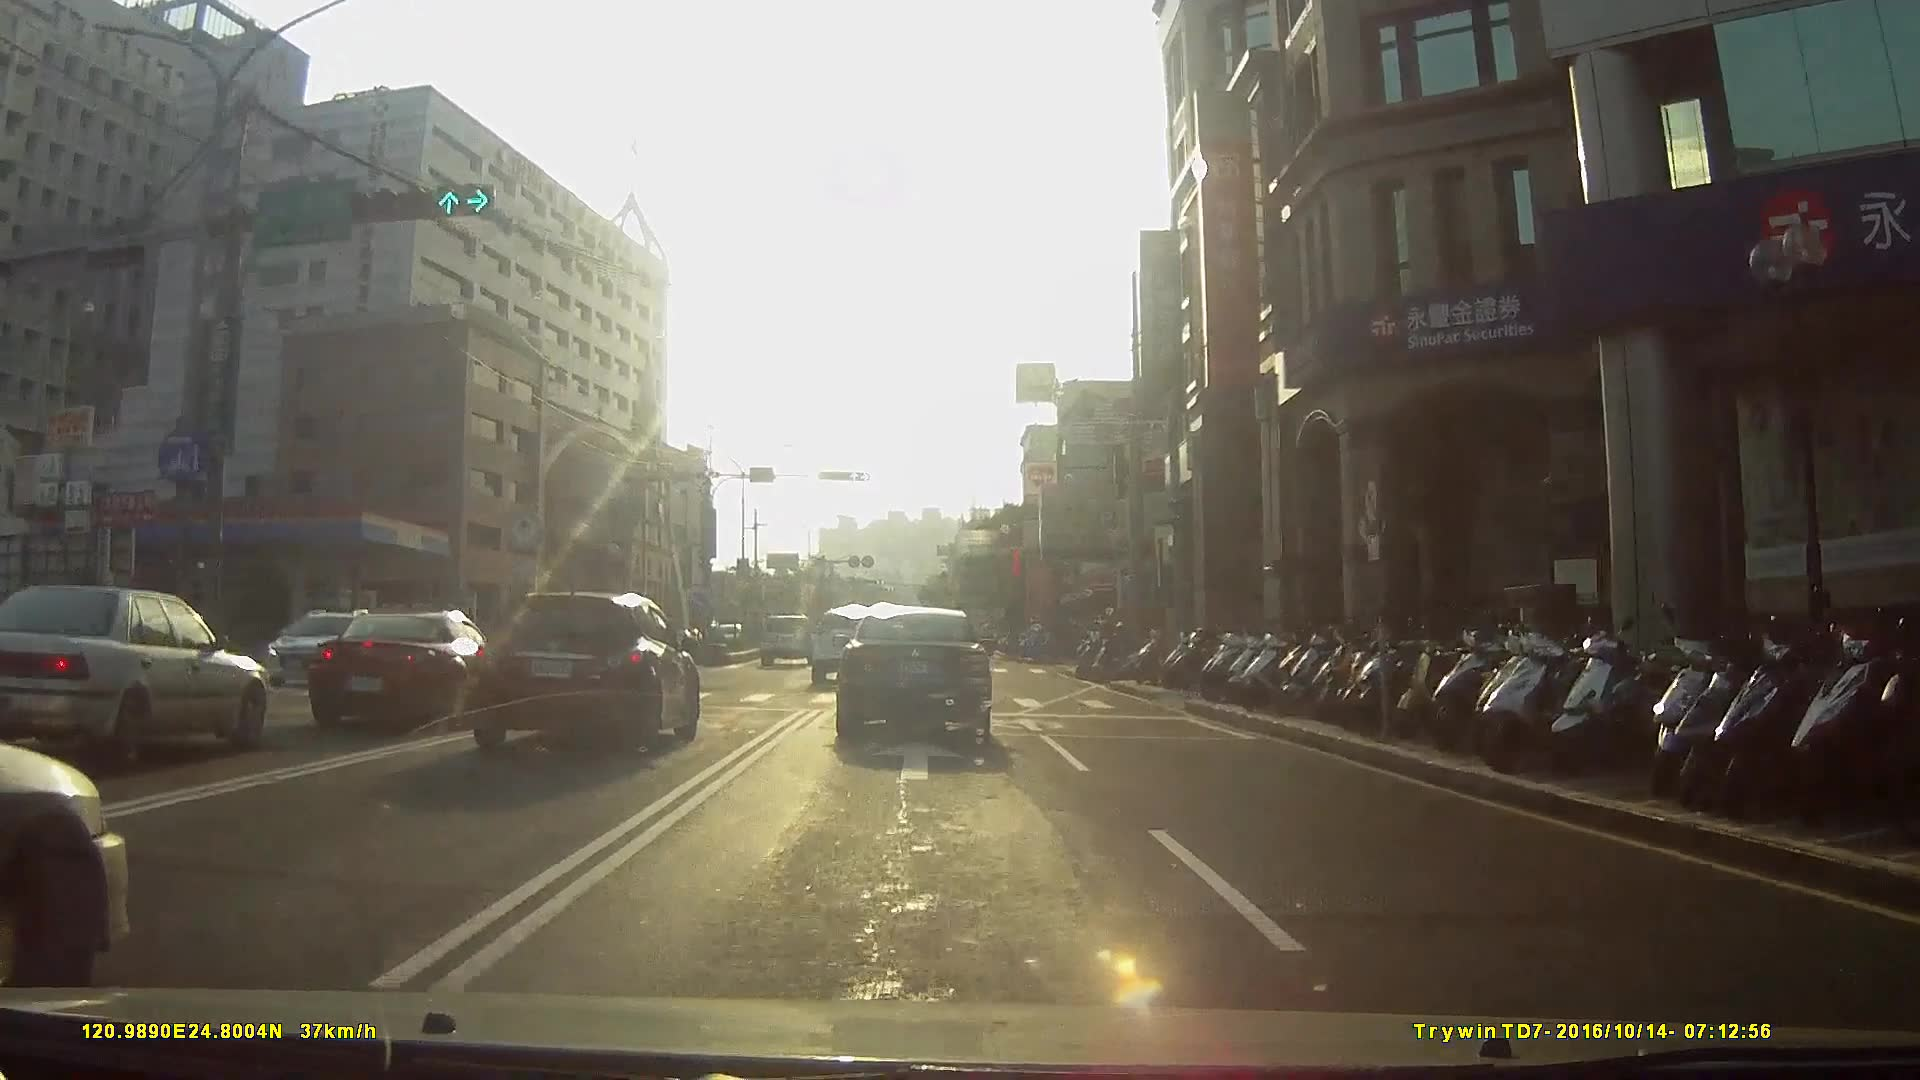rider: (1088, 621, 1157, 682)
vehicle: (1, 571, 275, 772), (460, 577, 714, 760), (301, 603, 528, 743), (831, 605, 1007, 748), (246, 606, 404, 694), (809, 606, 888, 690), (760, 613, 819, 668)
